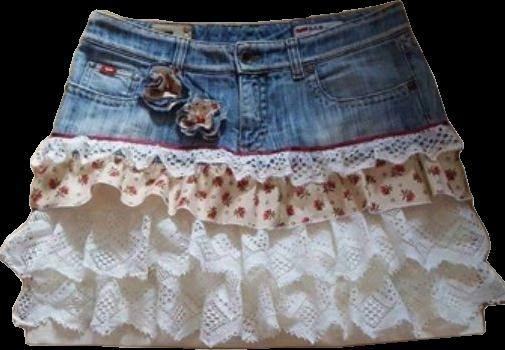Hemline: (28, 181, 474, 232), (11, 300, 504, 346), (0, 253, 486, 286), (23, 331, 485, 349)
Waistline: (50, 119, 448, 155), (92, 2, 403, 43)
